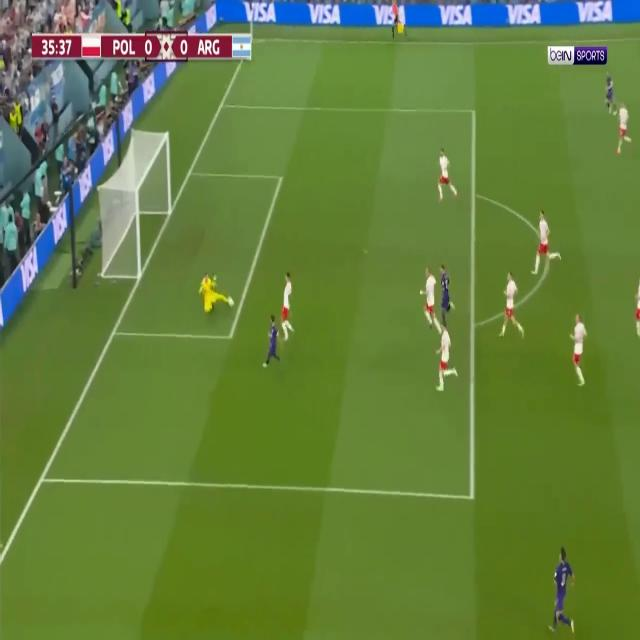Ball: (228, 294, 236, 308)
GoalKeeper: (200, 271, 230, 316)
Referee: (389, 1, 408, 43)
TEAM 1: (548, 543, 576, 633), (439, 264, 456, 331), (263, 314, 282, 367), (604, 68, 618, 114)
TEAM 2: (531, 209, 562, 276), (498, 268, 526, 340), (566, 311, 592, 388), (419, 265, 446, 337), (436, 320, 459, 393), (437, 146, 459, 204), (281, 269, 298, 344), (616, 100, 634, 158), (634, 271, 640, 341)
